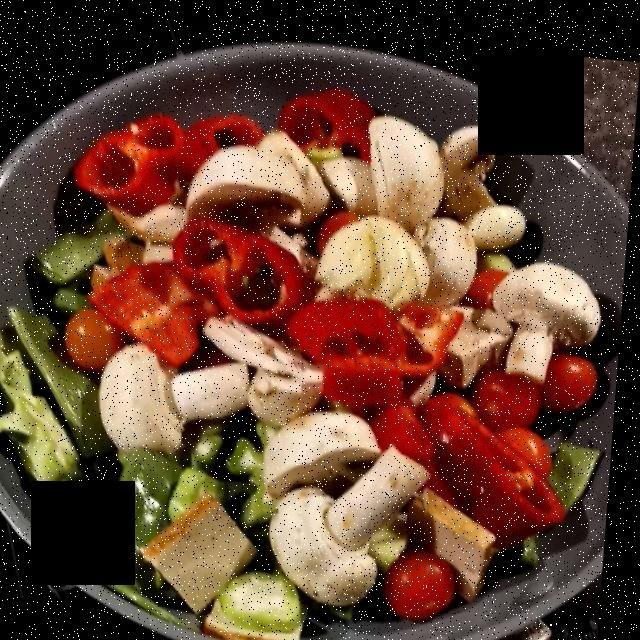beans: (53, 205, 602, 549)
tomato: (60, 259, 599, 607)
